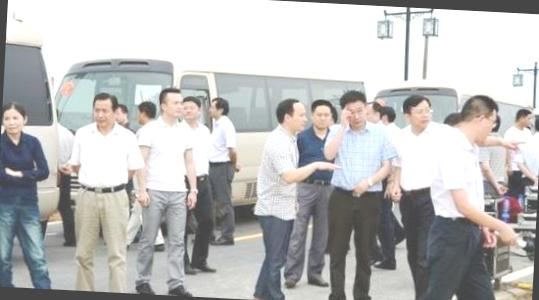no_helmet: (453, 92, 501, 141), (273, 93, 309, 134), (400, 92, 435, 130), (338, 89, 370, 130), (90, 91, 121, 129), (2, 97, 30, 137), (156, 84, 186, 121), (308, 97, 337, 132), (130, 98, 158, 131), (177, 96, 203, 126), (208, 95, 232, 121), (362, 99, 382, 126), (514, 105, 534, 131), (382, 102, 400, 130)
